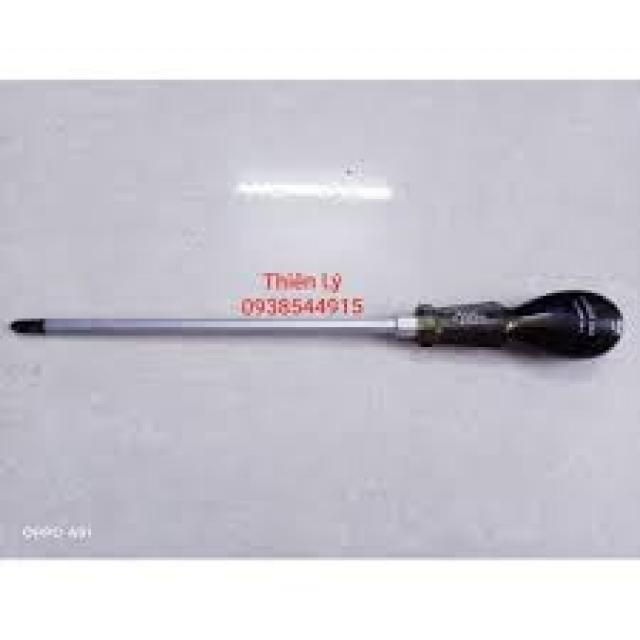screwdriver: (1, 282, 628, 364)
